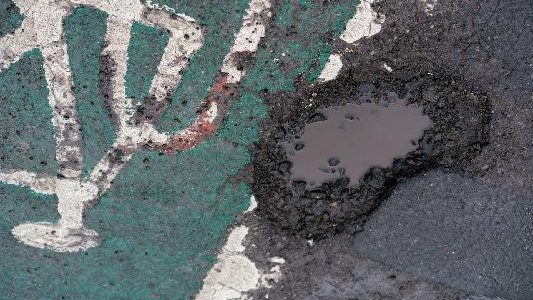pothole: (245, 61, 493, 242)
